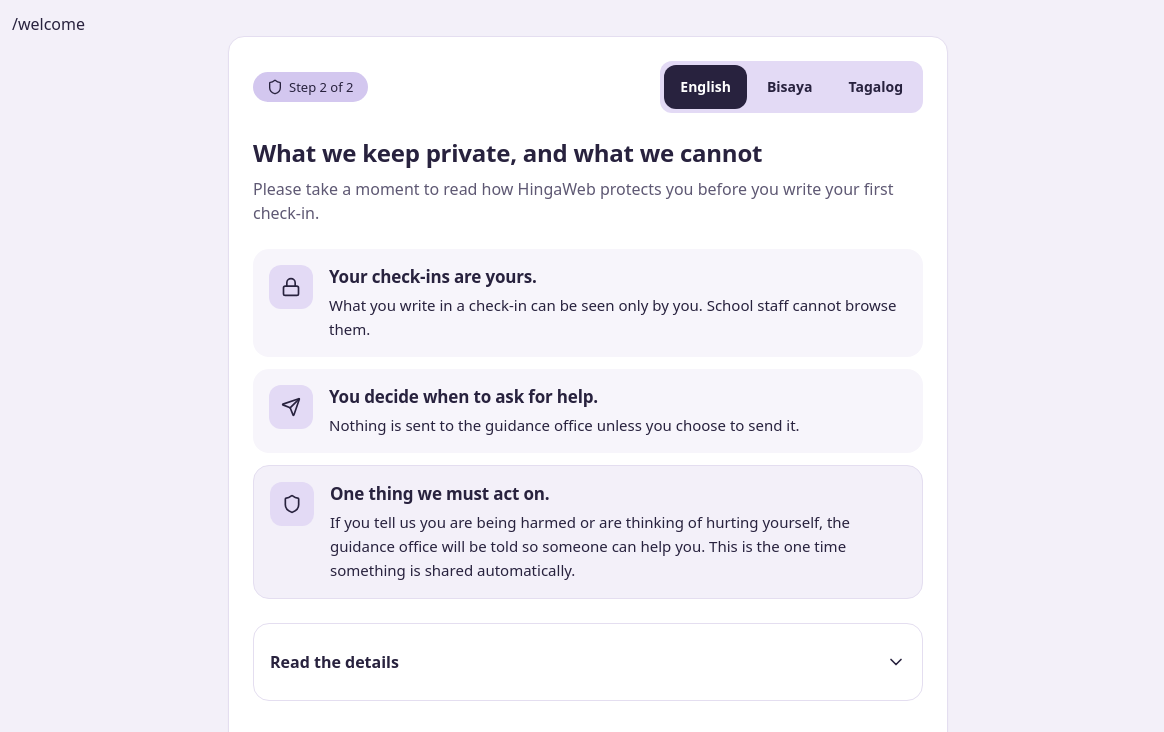
Test: AssentPage (Fig 10, 2.1.5.1.1) › switches language to the team-written text (placeholders until filled)
Click the radio button labelled "Bisaya": [790, 87] box [751,65,828,109]
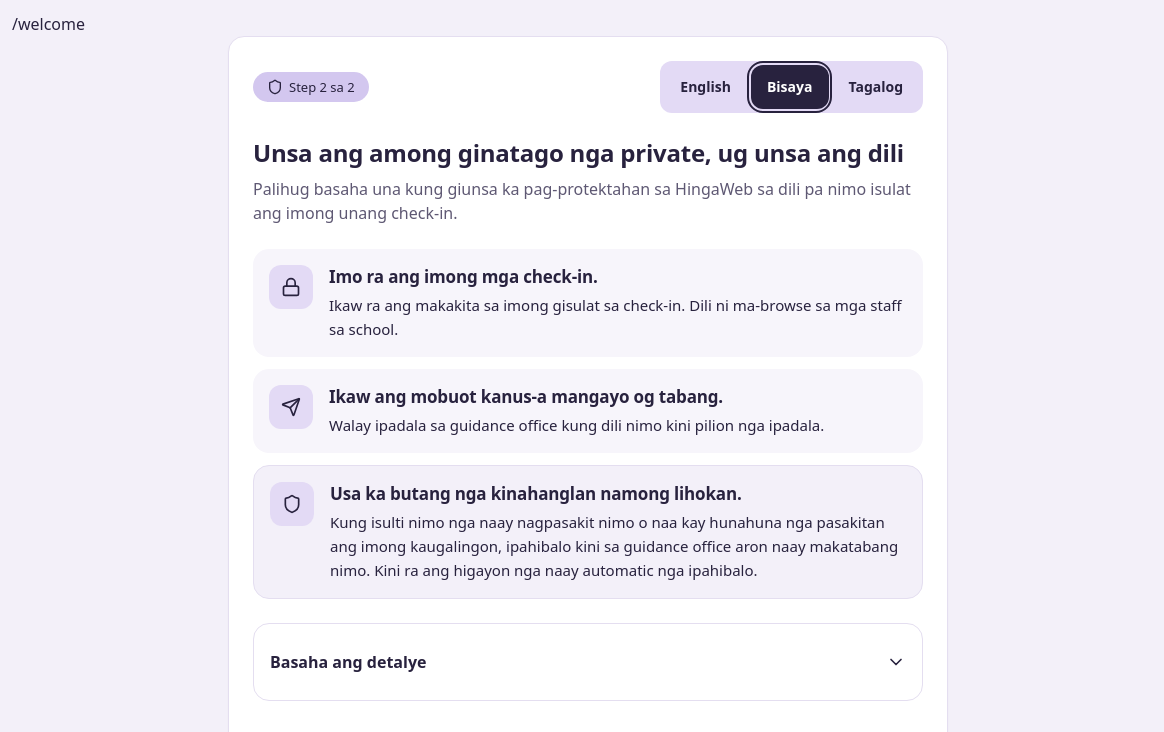
expect the heading "Unsa ang among ginatago nga private, ug unsa ang dili" is shown: met, box [253,137,923,169]
Click the radio button labelled "Tagalog": [876, 87] box [832,65,919,109]
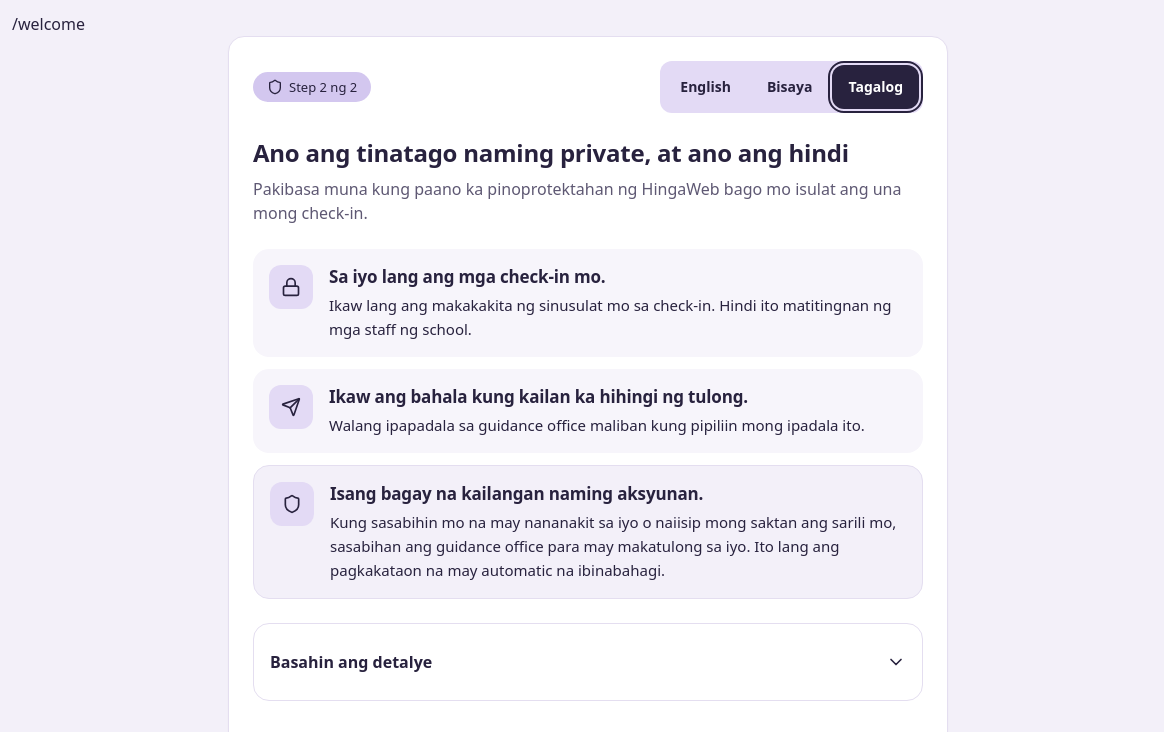
expect the heading "Ano ang tinatago naming private, at ano ang hindi" is shown: met, box [253,137,923,169]
